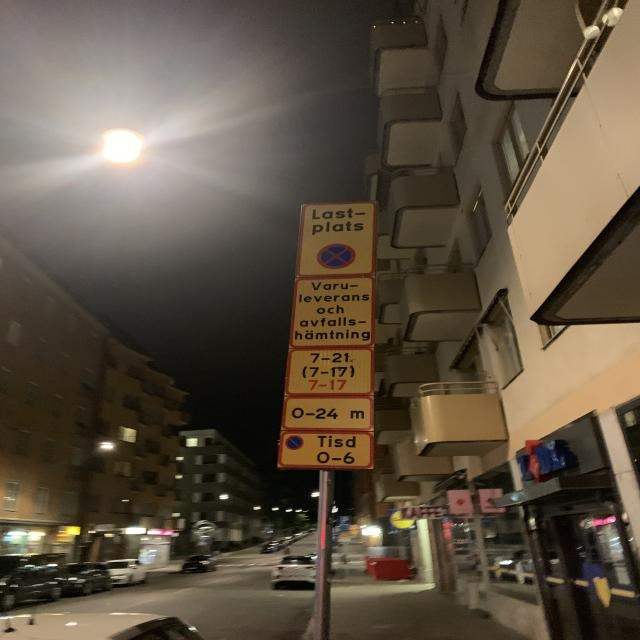lastplats: (296, 201, 379, 277)
